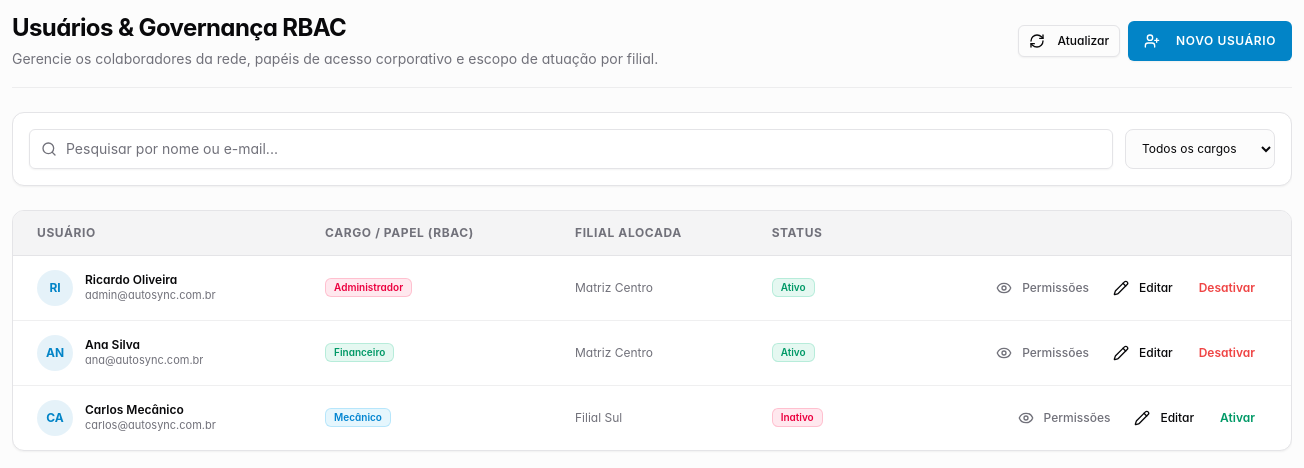
Test case: Users & RBAC Module (Integrated Management) › 2. should filter users by text search
The width and height of the screenshot is (1304, 468).
Expected: the text "Ricardo Oliveira" is shown, [85,272,177,287]
Type "ana@" into the field with placeholder "Pesquisar por nome ou e-mail..." at [571, 149], box [29,129,1113,169]
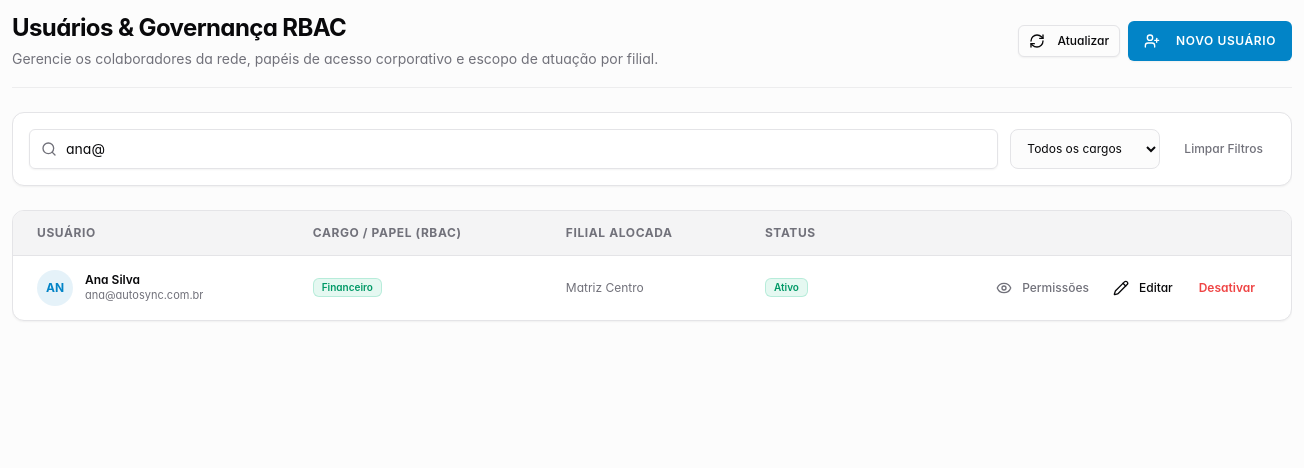
Expected: the text "Ana Silva" is shown, [85,272,140,287]
Expected: the text "Ricardo Oliveira" is gone
